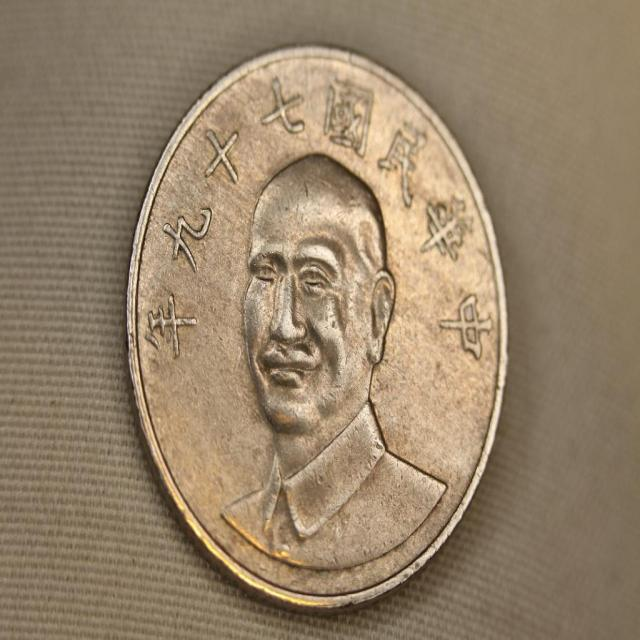Coin: (128, 46, 505, 615)
